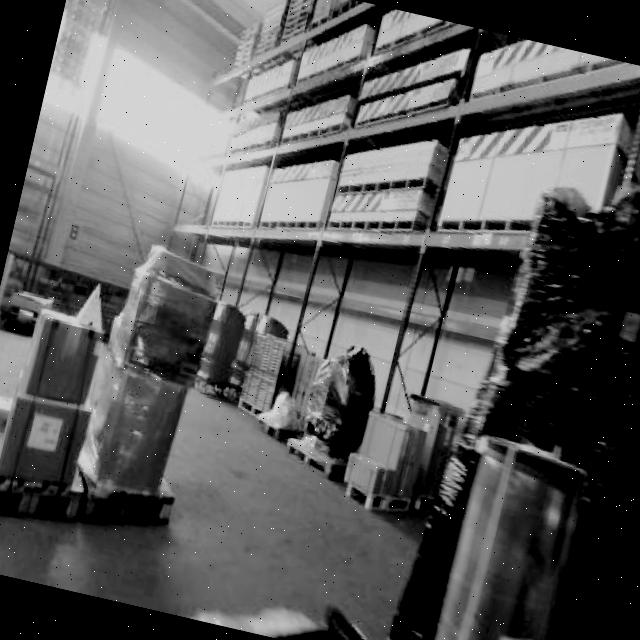ground: (0, 319, 455, 640)
pallet: (125, 0, 640, 546), (0, 265, 219, 557), (0, 148, 66, 325), (338, 404, 433, 519), (386, 390, 468, 514)
